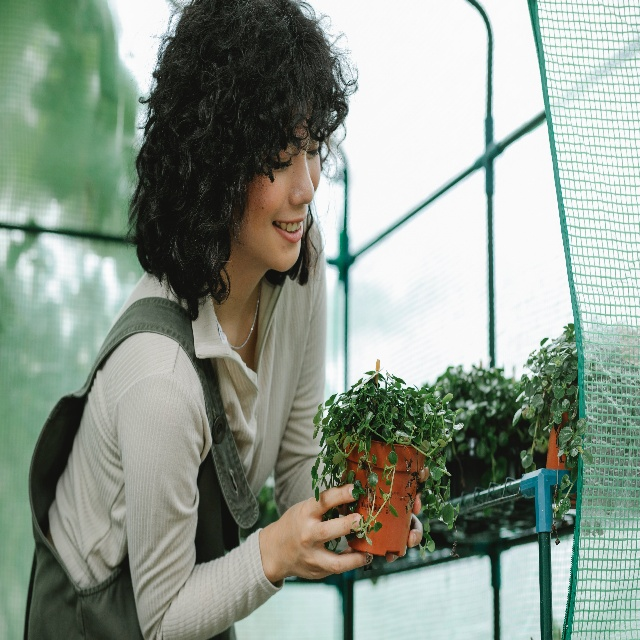Sin_guantes: (276, 483, 373, 581)
